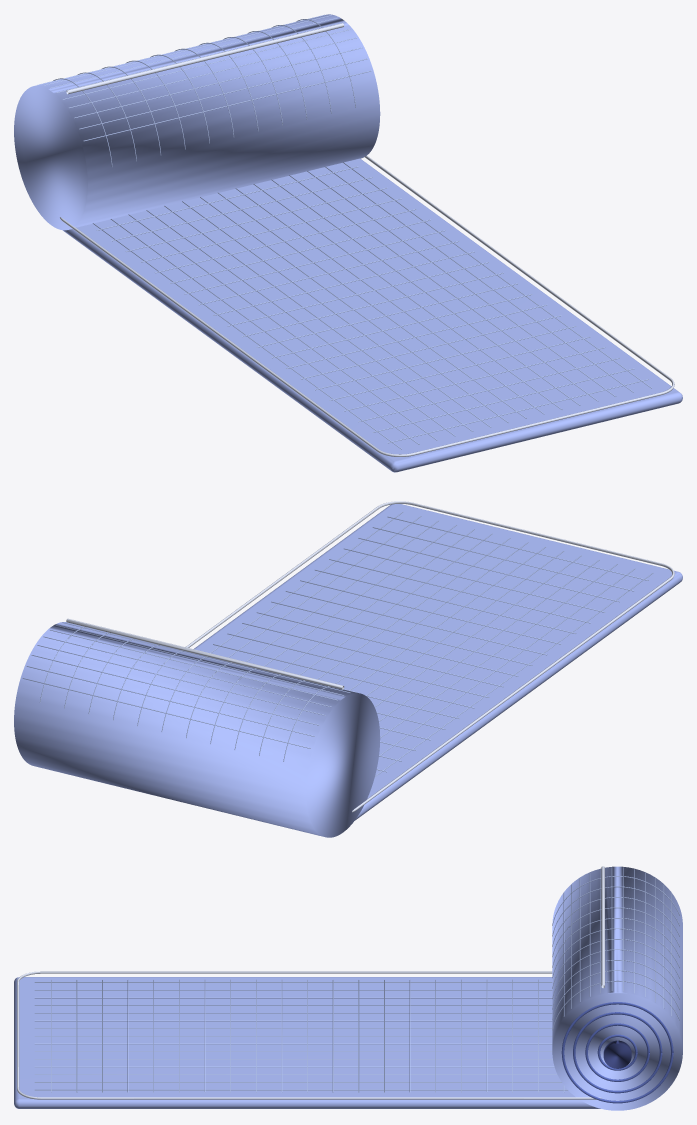
Rendered from Yogamatte_3D.glb.
3 renders of one model, top to bottom at view 1: azimuth 30°, elevation 25°; view 2: azimuth 150°, elevation 25°; view 3: azimuth 270°, elevation 25°, orthographic. The views are drawn at different scales.
Parts seen in each view (by area): view 1: Yogamatte_3D__web_soft_lavender_blue_yoga_mat_foam_body, Yogamatte_3D__web_subtle_raised_waffle_texture_on_yoga_mat, Yogamatte_3D__web_pale_lavender_yoga_mat_edge_highlights; view 2: Yogamatte_3D__web_soft_lavender_blue_yoga_mat_foam_body, Yogamatte_3D__web_subtle_raised_waffle_texture_on_yoga_mat, Yogamatte_3D__web_pale_lavender_yoga_mat_edge_highlights; view 3: Yogamatte_3D__web_soft_lavender_blue_yoga_mat_foam_body, Yogamatte_3D__web_subtle_raised_waffle_texture_on_yoga_mat, Yogamatte_3D__web_pale_lavender_yoga_mat_edge_highlights, Yogamatte_3D__web_darker_blue_purple_yoga_mat_grooves_and_sp, Yogamatte_3D__web_dark_inner_roll_shadow_on_yoga_mat.
Boxes of the visible parts, bbox=[...] form: Yogamatte_3D__web_soft_lavender_blue_yoga_mat_foam_body: bbox=[14, 14, 682, 472]; Yogamatte_3D__web_subtle_raised_waffle_texture_on_yoga_mat: bbox=[37, 14, 651, 449]; Yogamatte_3D__web_pale_lavender_yoga_mat_edge_highlights: bbox=[60, 23, 674, 456]; Yogamatte_3D__web_soft_lavender_blue_yoga_mat_foam_body: bbox=[14, 504, 682, 837]; Yogamatte_3D__web_subtle_raised_waffle_texture_on_yoga_mat: bbox=[22, 511, 653, 776]; Yogamatte_3D__web_pale_lavender_yoga_mat_edge_highlights: bbox=[66, 501, 674, 812]; Yogamatte_3D__web_soft_lavender_blue_yoga_mat_foam_body: bbox=[14, 866, 682, 1110]; Yogamatte_3D__web_subtle_raised_waffle_texture_on_yoga_mat: bbox=[34, 867, 679, 1092]; Yogamatte_3D__web_pale_lavender_yoga_mat_edge_highlights: bbox=[17, 866, 604, 1099]; Yogamatte_3D__web_darker_blue_purple_yoga_mat_grooves_and_sp: bbox=[561, 1002, 673, 1103]; Yogamatte_3D__web_dark_inner_roll_shadow_on_yoga_mat: bbox=[603, 1040, 631, 1068].
Bounding box in the file's own units: 0.749 × 0.3265 × 1.62.
